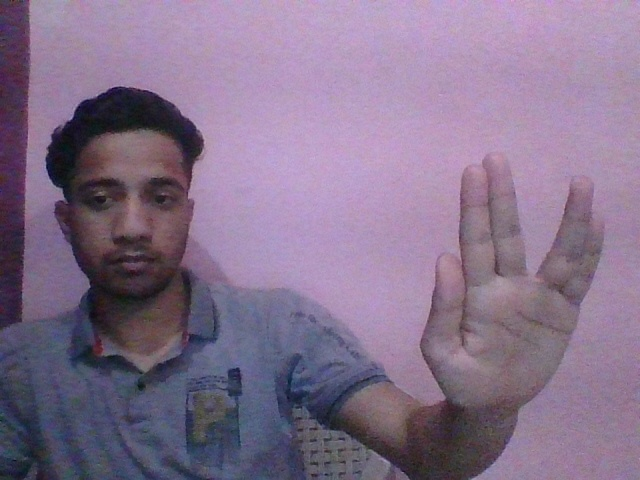livelong: (424, 153, 604, 400)
